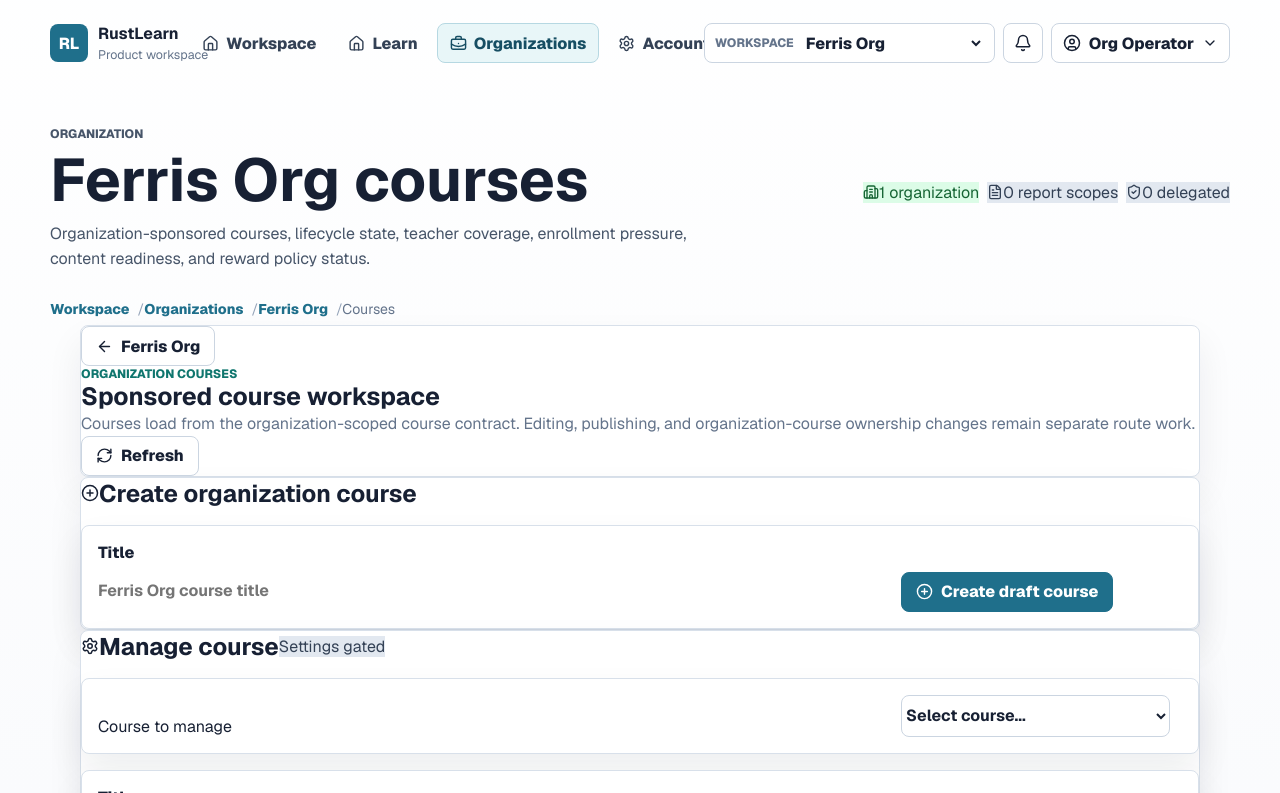
OrganizationCoursesRoute › explains when a selected organization course was deleted
Select "Rust Ownership Lab" in the dropdown labelled "Course to manage" at (1036, 716), box [901,695,1170,737]
(page scrolled)
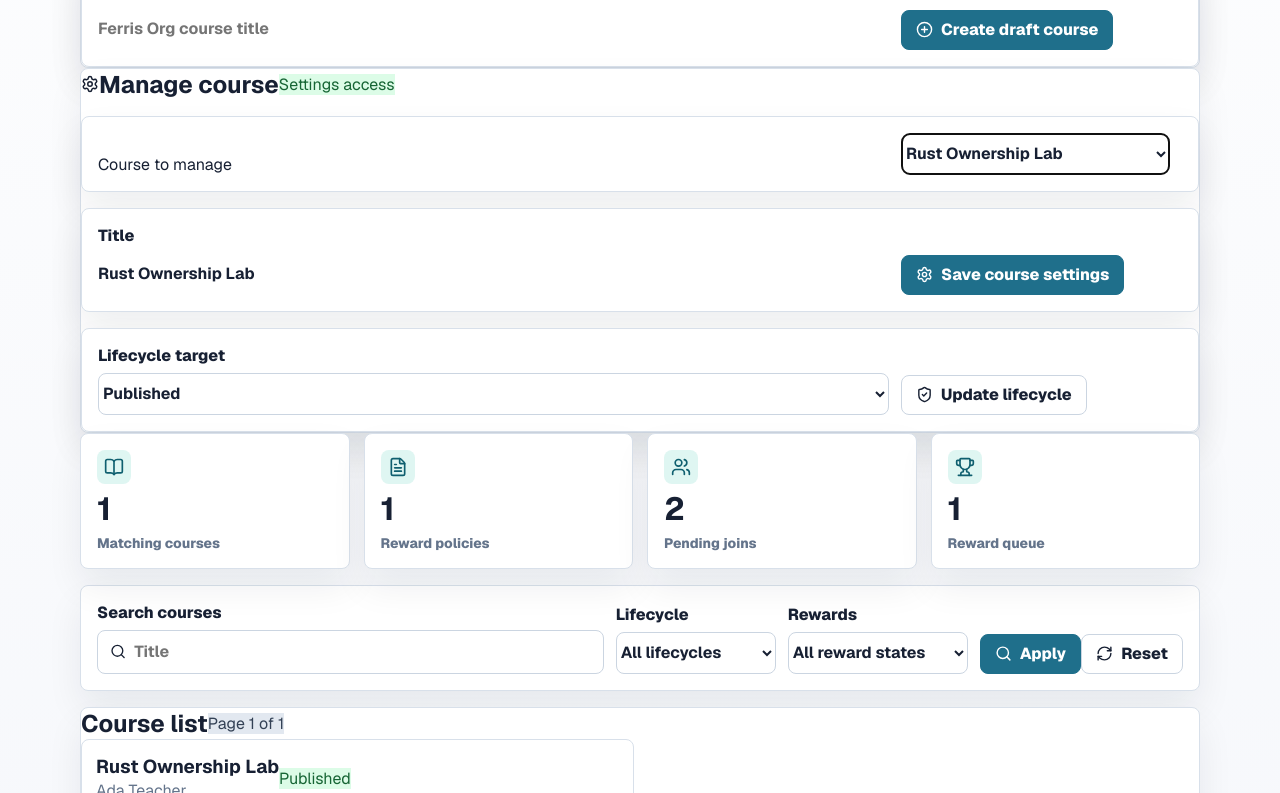
Select "Archived" in the dropdown labelled "Lifecycle target" at (494, 394), box [98,373,889,415]
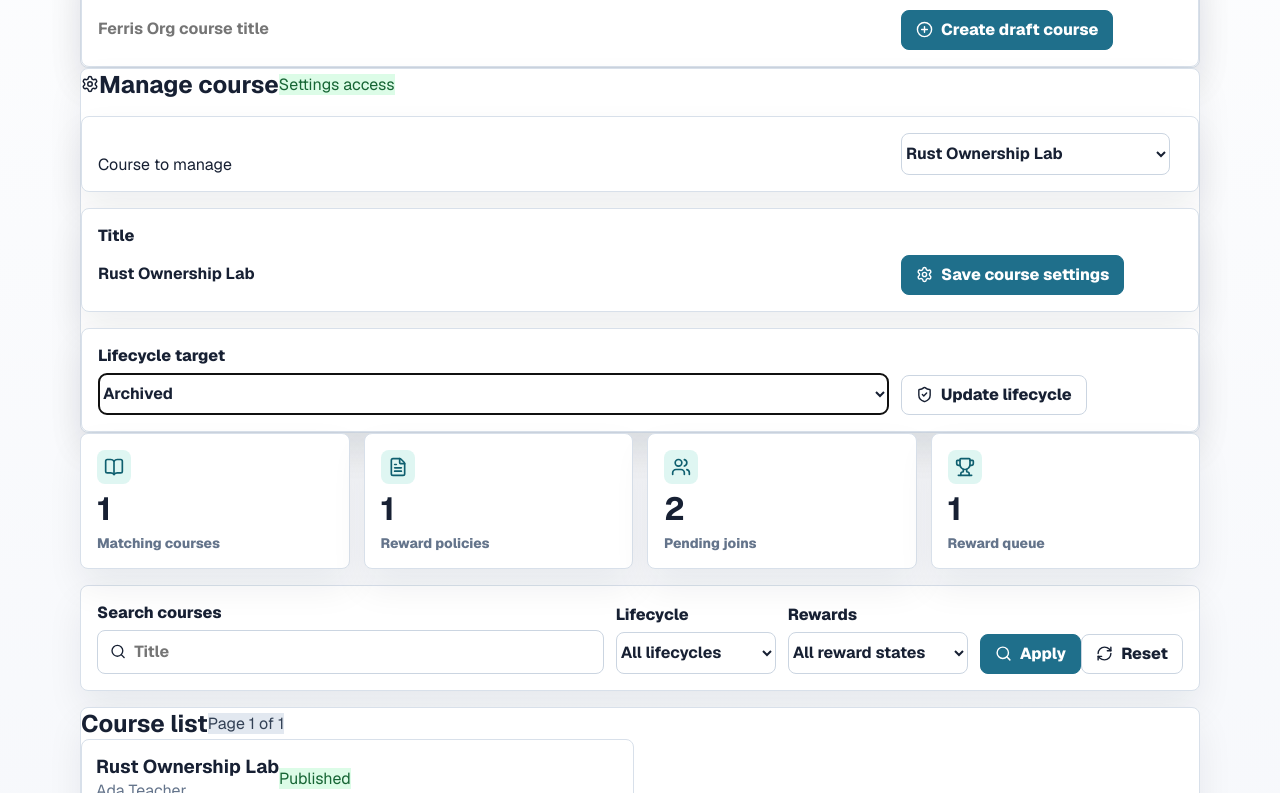
Click the button "Update lifecycle" at (994, 395), box [901,375,1087,415]
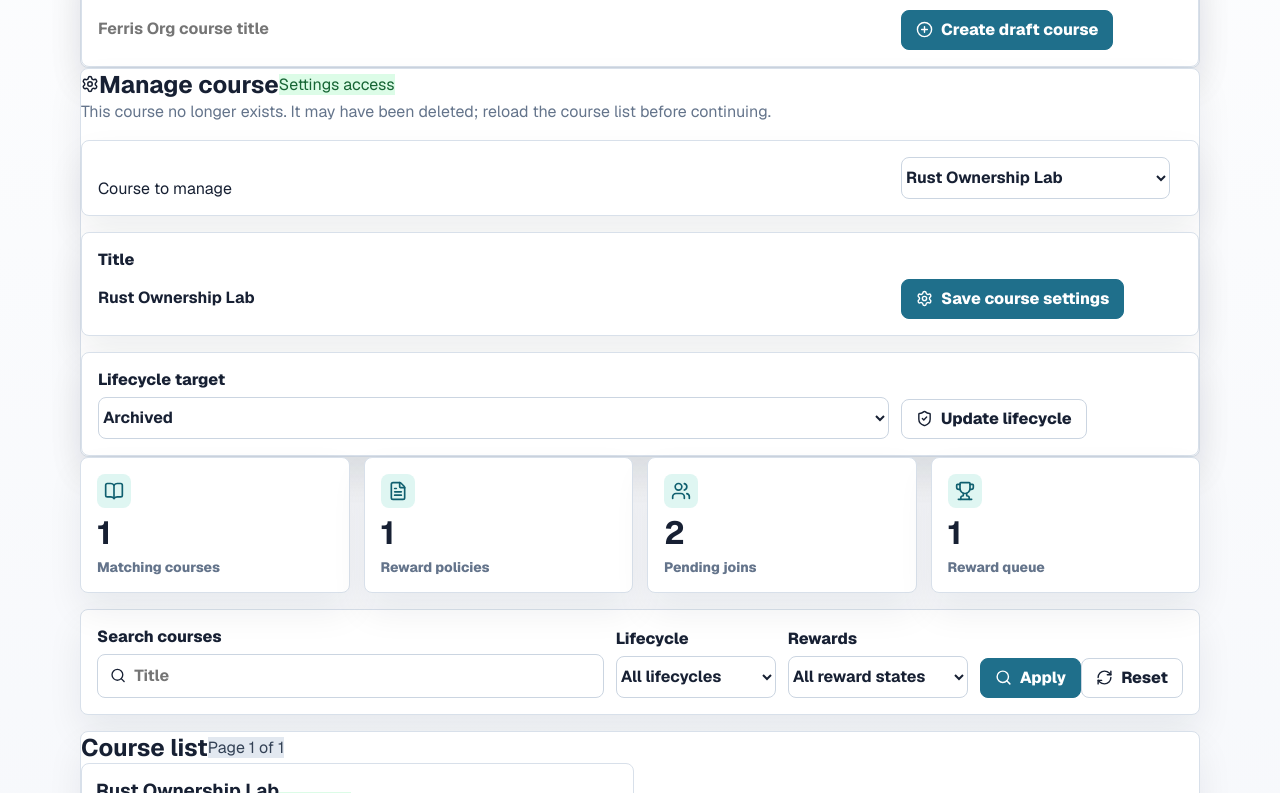
Expected: the text "This course no longer exists. It may have been deleted; reload the course list before continuing." is shown, [81,101,771,122]
